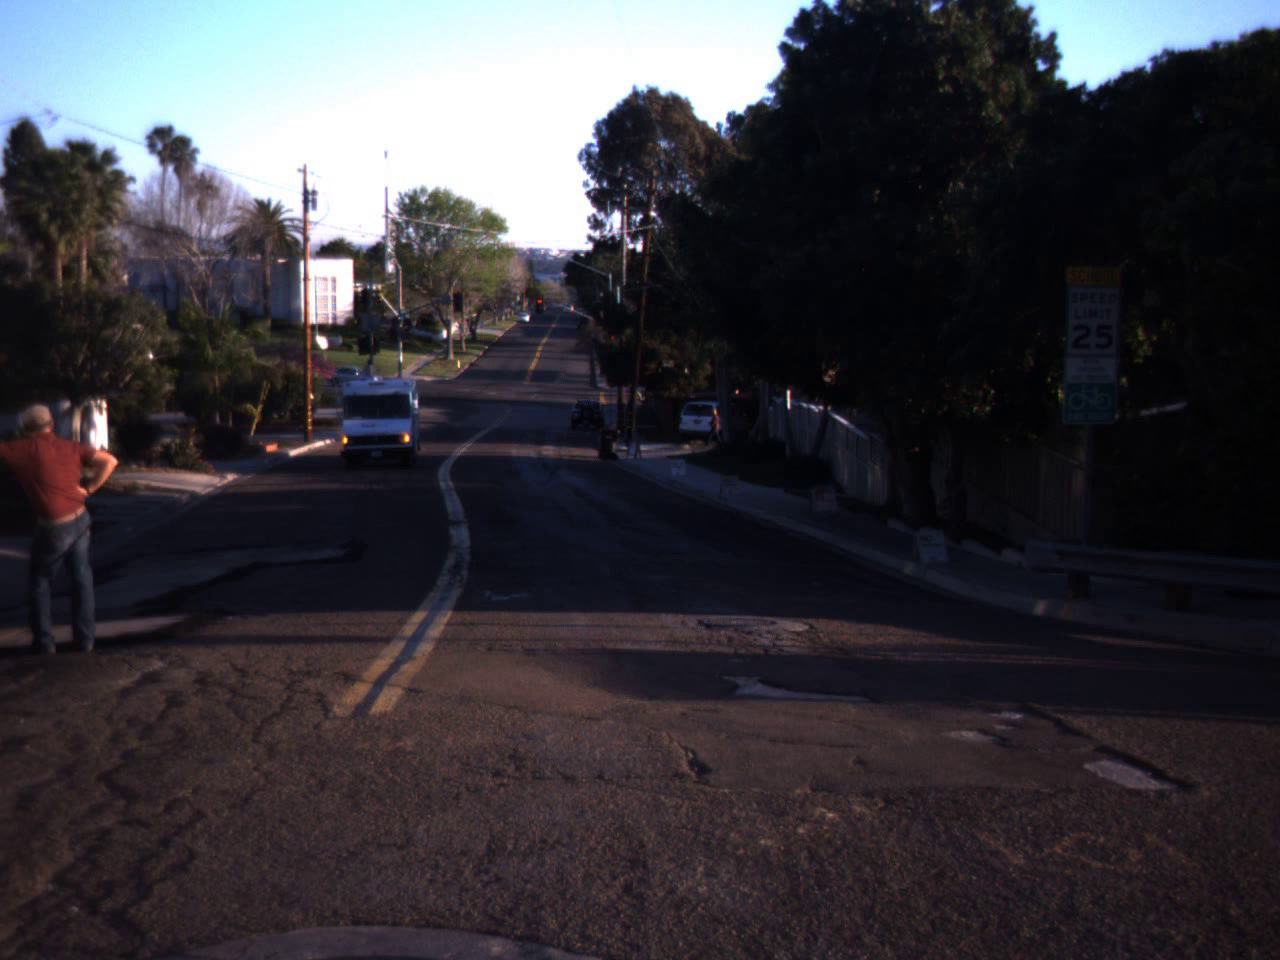stop: (604, 332, 622, 359)
